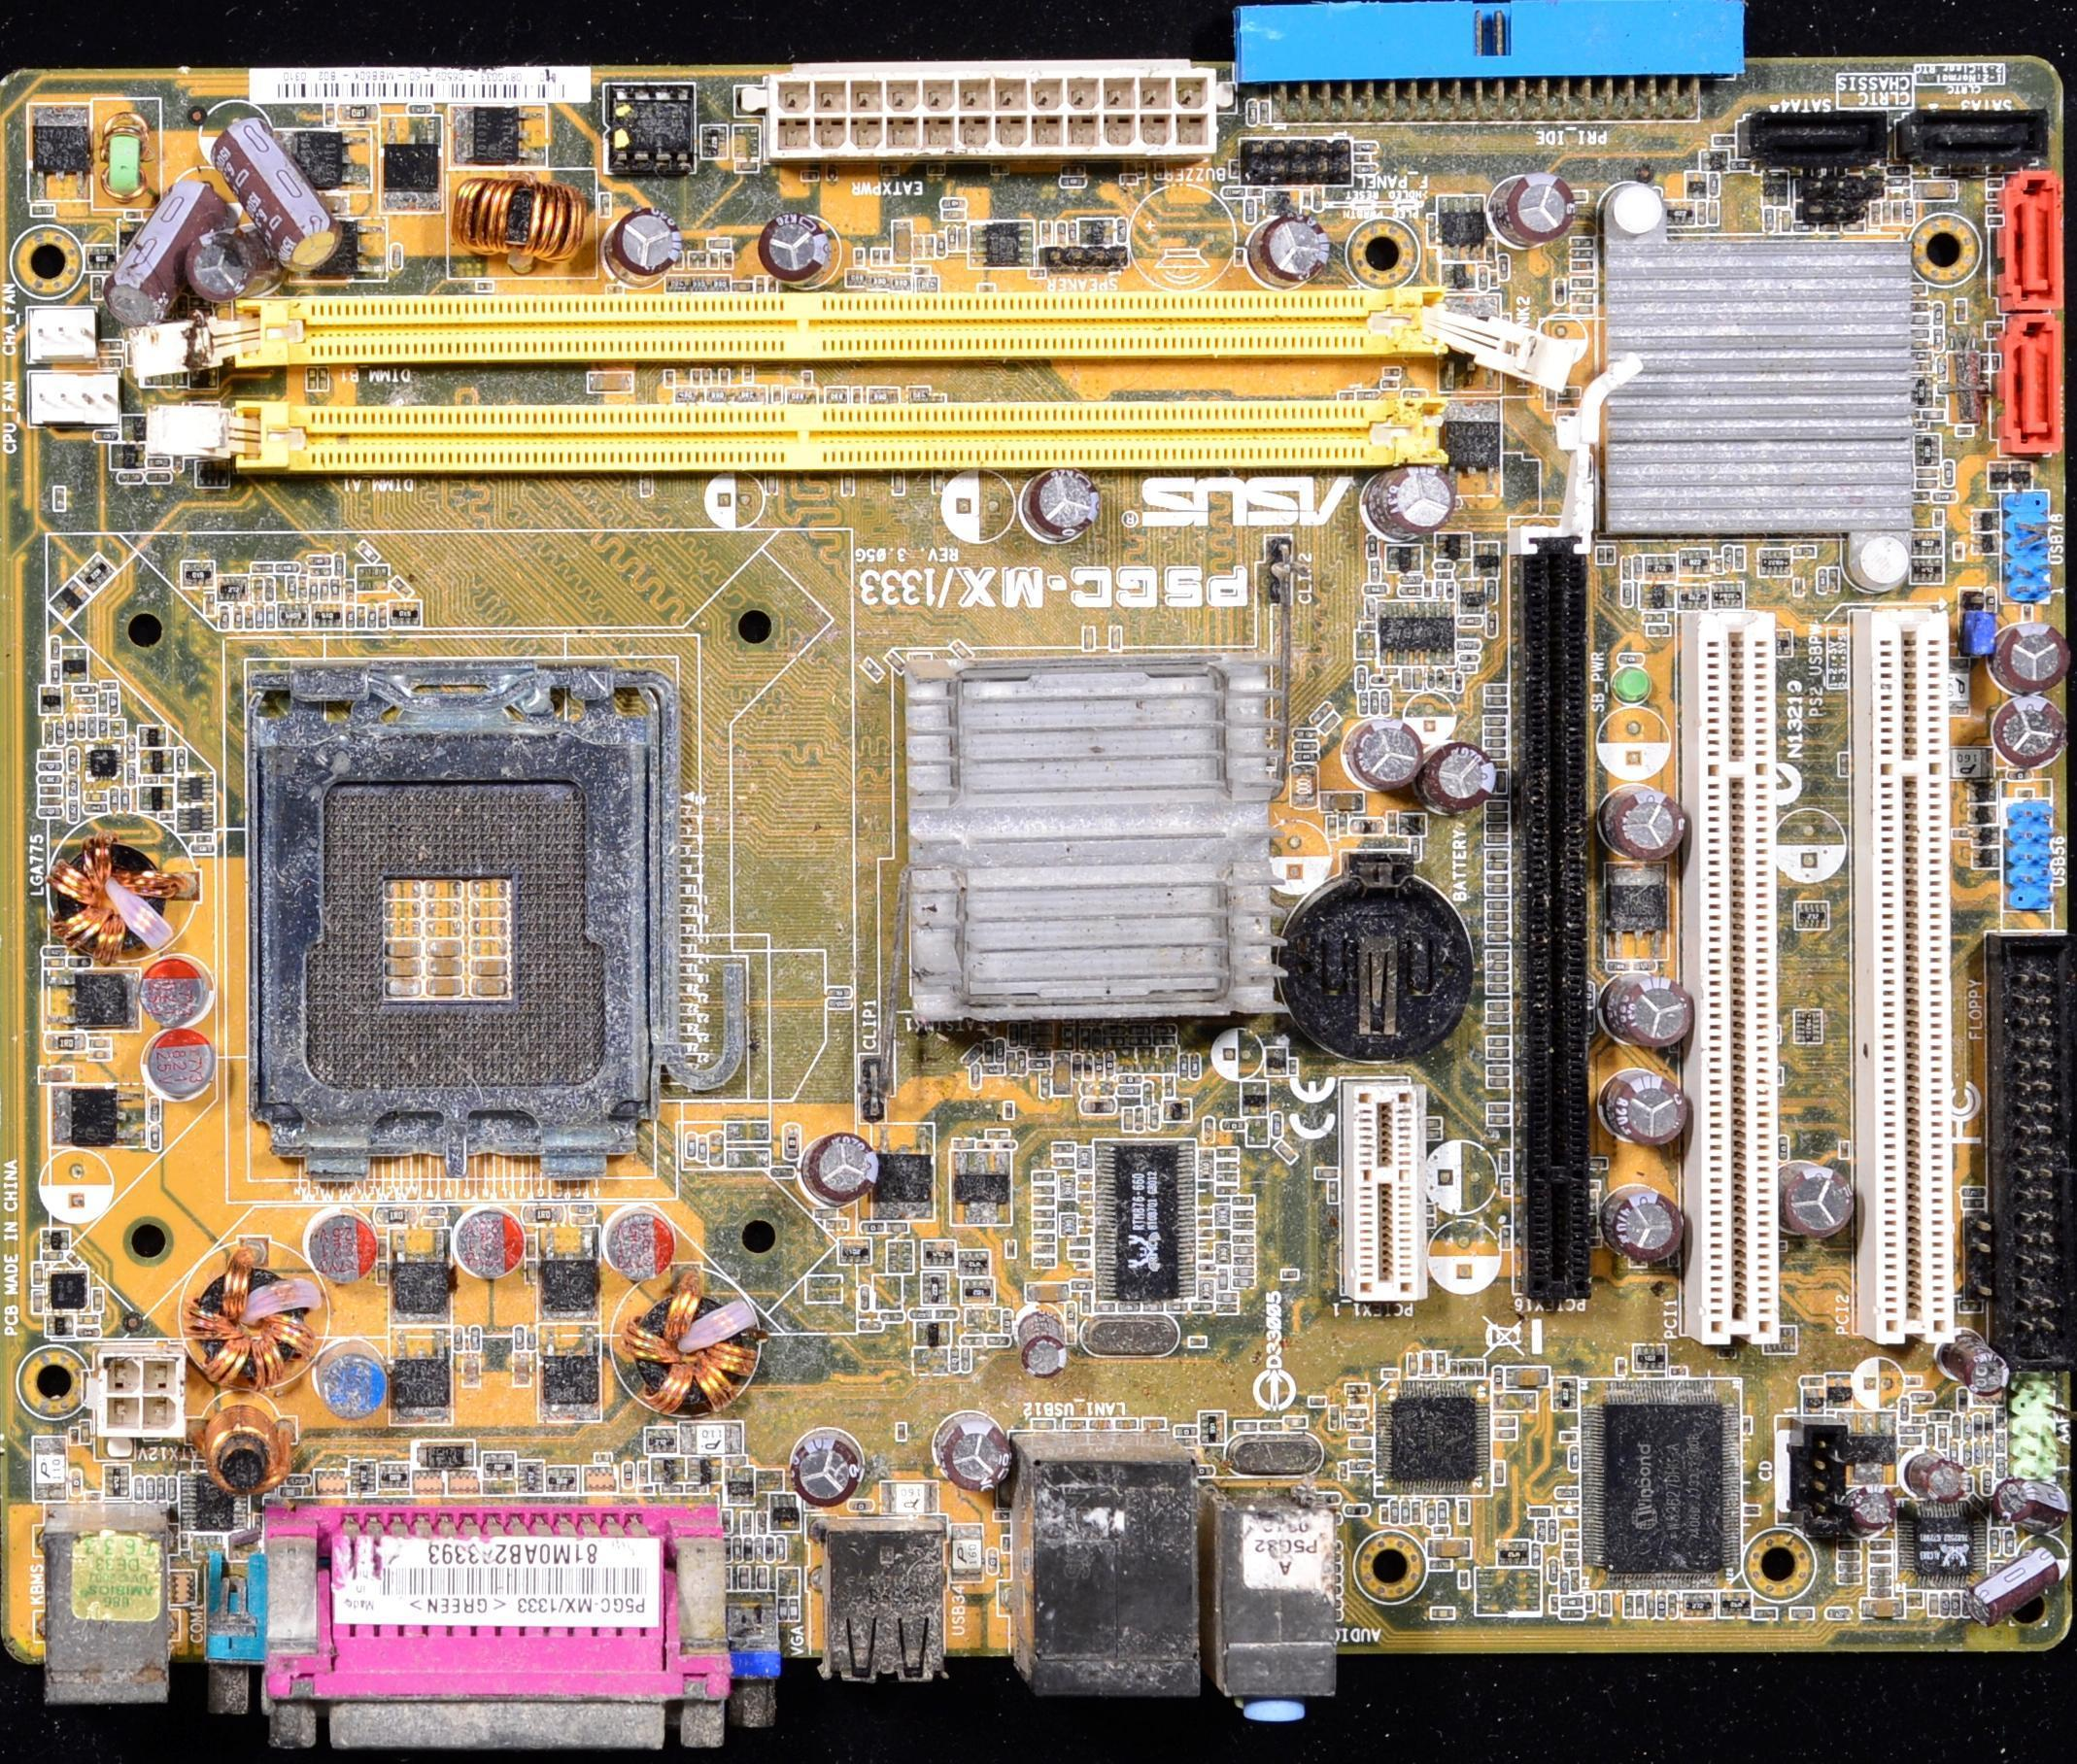Capacitor: (1504, 1366, 1547, 1386), (1430, 1539, 1474, 1559), (1858, 1598, 1904, 1615), (1321, 791, 1365, 809), (1918, 181, 1958, 198), (40, 1066, 75, 1083), (950, 635, 975, 659), (1273, 1140, 1298, 1163), (885, 650, 904, 673), (1107, 624, 1123, 651), (774, 1533, 786, 1564), (1480, 1048, 1510, 1061), (713, 1133, 723, 1166), (1312, 1165, 1337, 1180), (1494, 1415, 1518, 1429), (1081, 626, 1096, 649), (1484, 884, 1508, 898), (799, 367, 813, 389), (1493, 1459, 1505, 1485), (1707, 199, 1719, 225), (939, 208, 967, 220), (82, 790, 109, 802), (1090, 1417, 1112, 1432), (1870, 1539, 1893, 1552), (755, 1533, 765, 1563), (1788, 1606, 1818, 1617), (1115, 1419, 1139, 1431), (1141, 1419, 1165, 1432), (1347, 1438, 1373, 1449), (1836, 1540, 1860, 1552), (1570, 238, 1594, 251), (1412, 1497, 1423, 1525), (839, 475, 854, 495), (1481, 695, 1503, 708), (1487, 970, 1511, 983), (896, 1421, 907, 1444), (1870, 1565, 1892, 1577), (1916, 466, 1939, 478), (1486, 837, 1509, 848), (1484, 1035, 1511, 1045), (1485, 1066, 1512, 1076), (1482, 1115, 1509, 1125), (93, 1287, 103, 1312), (1432, 1609, 1458, 1618), (1497, 254, 1509, 280), (1481, 716, 1506, 727), (1483, 899, 1510, 910), (1484, 933, 1511, 943), (32, 1263, 44, 1285), (1217, 1268, 1229, 1291), (1408, 1349, 1417, 1374), (1307, 1395, 1328, 1407), (1438, 1500, 1448, 1524), (1835, 1563, 1860, 1573), (738, 1568, 749, 1592), (1873, 1577, 1893, 1589), (1882, 201, 1891, 225), (893, 470, 903, 494), (933, 472, 942, 496), (1914, 479, 1938, 491), (1482, 684, 1507, 695), (1486, 751, 1510, 762), (1486, 800, 1510, 810), (706, 239, 734, 248), (1479, 264, 1487, 291), (662, 368, 675, 386), (1486, 984, 1508, 995), (423, 1218, 447, 1228), (1032, 1419, 1055, 1429), (1065, 1419, 1086, 1430), (1389, 1501, 1400, 1524), (1117, 173, 1139, 185), (1888, 177, 1910, 187), (1571, 261, 1594, 272), (642, 475, 653, 496), (733, 281, 753, 291), (1909, 327, 1927, 339), (766, 474, 778, 493), (1483, 1001, 1511, 1010), (1836, 1575, 1861, 1583), (1928, 1593, 1937, 1618), (1413, 665, 1422, 691), (1481, 729, 1509, 736), (1481, 849, 1509, 858), (1484, 922, 1510, 932), (1188, 1337, 1209, 1348), (1956, 298, 1967, 319), (1931, 326, 1942, 349), (41, 1252, 65, 1260), (78, 1315, 101, 1324), (1423, 1349, 1432, 1374), (1347, 1408, 1373, 1417), (1427, 1501, 1436, 1526), (1063, 165, 1086, 174), (1987, 584, 1994, 609), (39, 786, 62, 795), (1423, 1120, 1442, 1131), (1098, 1303, 1116, 1313), (1485, 1013, 1509, 1022), (89, 1037, 112, 1047), (89, 1051, 112, 1060), (1235, 1422, 1258, 1431), (1493, 1432, 1515, 1440), (759, 1568, 767, 1590), (1483, 737, 1506, 746), (40, 750, 62, 760), (39, 797, 61, 804), (1484, 822, 1506, 831), (1486, 911, 1509, 920), (43, 960, 65, 968), (1486, 961, 1508, 969), (67, 1253, 82, 1266), (1485, 1079, 1512, 1087), (1486, 1103, 1512, 1111), (1004, 1101, 1015, 1119), (1123, 1106, 1130, 1132), (1422, 1131, 1444, 1139), (1232, 1246, 1253, 1254), (34, 1292, 43, 1312), (734, 1534, 741, 1560), (778, 1598, 787, 1619), (790, 1599, 798, 1621), (1892, 200, 1901, 220), (1483, 863, 1510, 870), (1486, 873, 1507, 882), (1486, 950, 1506, 959), (698, 1136, 705, 1161), (1232, 1278, 1256, 1285), (1836, 1553, 1859, 1561), (1571, 251, 1595, 256), (1486, 815, 1510, 823), (1379, 1505, 1387, 1525), (1913, 315, 1931, 324), (690, 368, 700, 384), (573, 1218, 596, 1226), (1234, 1269, 1257, 1275), (1403, 1501, 1410, 1524), (889, 1225, 906, 1234), (720, 365, 729, 384), (1783, 210, 1789, 230), (688, 1132, 694, 1159), (1913, 339, 1927, 349), (1868, 1555, 1892, 1561), (1144, 1304, 1162, 1311), (1382, 1371, 1397, 1378), (705, 367, 712, 386), (1287, 1417, 1303, 1425), (745, 366, 753, 382), (1218, 1296, 1235, 1301)
Connector: (1736, 113, 1888, 162), (1894, 111, 2037, 165)
IC: (1585, 1380, 1737, 1588), (1098, 1141, 1201, 1296), (277, 126, 371, 194), (453, 106, 545, 165), (181, 1472, 251, 1534), (83, 741, 121, 785), (177, 775, 217, 804), (178, 807, 215, 833)
Resistor: (613, 208, 682, 275), (525, 1207, 562, 1224), (1484, 613, 1501, 638), (382, 1208, 413, 1223), (1815, 564, 1828, 594), (1292, 729, 1324, 739), (150, 1126, 163, 1149), (1027, 1230, 1056, 1243), (1573, 275, 1594, 290), (859, 1222, 885, 1235), (512, 1324, 526, 1351), (1552, 281, 1565, 306), (1033, 1170, 1056, 1182), (1457, 1497, 1471, 1518), (1457, 614, 1481, 628), (1193, 1461, 1213, 1476), (132, 1477, 145, 1501), (1106, 1050, 1116, 1078), (155, 1475, 166, 1503), (940, 195, 968, 207), (1292, 753, 1319, 763), (1032, 1242, 1056, 1254), (1355, 140, 1378, 153), (1362, 583, 1383, 594), (42, 945, 65, 957), (470, 1324, 482, 1351), (623, 1462, 633, 1488), (279, 1486, 305, 1497), (742, 1537, 752, 1563), (1060, 179, 1087, 188), (32, 207, 57, 217), (935, 231, 945, 256), (275, 562, 300, 572), (1382, 691, 1392, 718), (1367, 558, 1380, 577), (724, 1535, 732, 1564), (1940, 1588, 1949, 1618), (1945, 459, 1954, 490), (454, 1327, 464, 1350), (1491, 1366, 1503, 1386), (1912, 1392, 1934, 1403), (1174, 1426, 1198, 1437), (987, 1548, 998, 1574), (1571, 294, 1595, 304), (100, 340, 124, 351), (309, 556, 331, 566), (1396, 587, 1421, 596), (72, 685, 96, 695), (38, 806, 63, 818), (847, 1501, 874, 1510), (1020, 1024, 1031, 1047), (150, 1099, 159, 1121), (1216, 1184, 1239, 1195), (1233, 1224, 1257, 1234), (1956, 1388, 1967, 1410), (1939, 1427, 1949, 1449), (1995, 1453, 2005, 1476), (95, 429, 118, 440), (1632, 553, 1643, 576), (1433, 560, 1455, 570), (1432, 570, 1453, 581), (1621, 583, 1633, 606), (67, 800, 79, 820), (1551, 1489, 1578, 1499), (948, 224, 957, 251), (92, 276, 102, 302), (97, 357, 123, 366), (146, 474, 171, 483), (37, 763, 63, 772), (36, 776, 63, 784), (1154, 1024, 1175, 1034), (1119, 1074, 1141, 1085), (1273, 1114, 1283, 1136), (169, 1473, 177, 1504), (2001, 1532, 2012, 1552), (1243, 200, 1254, 220), (53, 488, 65, 510), (1368, 534, 1379, 556), (1292, 744, 1323, 751), (69, 777, 79, 797), (995, 1038, 1004, 1063), (1083, 1054, 1092, 1077), (1030, 1210, 1056, 1220), (1030, 1259, 1056, 1268), (1345, 1505, 1368, 1514), (1353, 164, 1378, 173), (118, 475, 142, 483), (67, 714, 76, 738), (121, 786, 129, 811), (1081, 1030, 1092, 1048), (1994, 1436, 2005, 1454), (870, 247, 880, 266), (1066, 1026, 1074, 1049), (1029, 1050, 1052, 1059), (1190, 1053, 1199, 1076), (1073, 1057, 1081, 1079), (1032, 1184, 1055, 1193), (1030, 1197, 1053, 1205), (1031, 1219, 1053, 1228), (1067, 1302, 1075, 1325), (951, 1348, 961, 1371), (1962, 1440, 1970, 1464), (1572, 1446, 1581, 1469), (1733, 159, 1754, 168), (1904, 201, 1913, 224), (1933, 302, 1942, 325), (233, 606, 242, 628), (51, 636, 59, 661), (1435, 664, 1444, 688), (1359, 694, 1368, 715), (79, 716, 87, 738), (1987, 1410, 1993, 1439), (1009, 1025, 1019, 1047), (1132, 1035, 1150, 1046), (1096, 1052, 1103, 1077), (1234, 1211, 1255, 1220), (1071, 1280, 1089, 1291), (81, 1329, 98, 1339), (528, 1325, 534, 1350), (1992, 1529, 1998, 1555), (766, 1539, 773, 1564), (288, 578, 295, 599), (331, 580, 340, 600), (1447, 583, 1456, 603), (221, 604, 228, 629), (51, 663, 59, 684), (1359, 664, 1367, 692), (1452, 669, 1461, 690), (100, 717, 110, 735), (55, 724, 64, 746), (69, 747, 76, 774), (111, 786, 118, 812), (1218, 1147, 1242, 1155), (1214, 1164, 1240, 1171), (1954, 1439, 1960, 1464), (1656, 1592, 1664, 1617), (321, 577, 326, 601), (68, 959, 92, 967), (1106, 1038, 1126, 1047), (1030, 1061, 1050, 1069), (1983, 1474, 1992, 1493), (801, 174, 821, 182), (109, 693, 117, 712), (768, 276, 778, 291), (1222, 1122, 1243, 1129), (1902, 1398, 1909, 1421), (1975, 1412, 1983, 1436), (147, 1476, 154, 1499), (1458, 654, 1480, 661), (1373, 690, 1379, 713), (1954, 1589, 1958, 1619), (1107, 1026, 1125, 1035), (1170, 1303, 1187, 1311), (1973, 1442, 1983, 1460), (310, 579, 317, 600), (1180, 1052, 1187, 1077), (1489, 580, 1495, 605), (1156, 1036, 1175, 1043), (1018, 1053, 1026, 1073), (884, 247, 891, 265), (99, 693, 107, 712), (1218, 1174, 1242, 1180), (88, 714, 95, 738), (84, 804, 108, 811), (1131, 1027, 1148, 1035), (757, 275, 764, 291), (100, 682, 117, 689), (196, 835, 213, 842), (571, 1207, 594, 1213), (1233, 1199, 1255, 1204), (178, 749, 185, 769), (141, 777, 158, 784), (986, 1042, 992, 1060), (855, 248, 862, 265), (1901, 1426, 1918, 1432)
Transistor: (49, 1268, 89, 1310), (47, 585, 90, 614), (137, 747, 175, 773), (1441, 262, 1474, 292), (63, 648, 88, 684), (138, 787, 175, 813), (1241, 1082, 1268, 1114), (1471, 540, 1497, 575), (1384, 545, 1415, 572), (110, 443, 144, 469), (1459, 579, 1485, 613), (1826, 1375, 1856, 1406), (1438, 535, 1471, 560), (40, 1227, 72, 1250), (1963, 805, 1996, 824), (1970, 828, 1999, 848), (40, 687, 62, 713), (45, 1315, 76, 1336), (1968, 783, 1994, 803), (1969, 851, 1999, 868), (138, 726, 166, 745), (1802, 1390, 1823, 1412)
